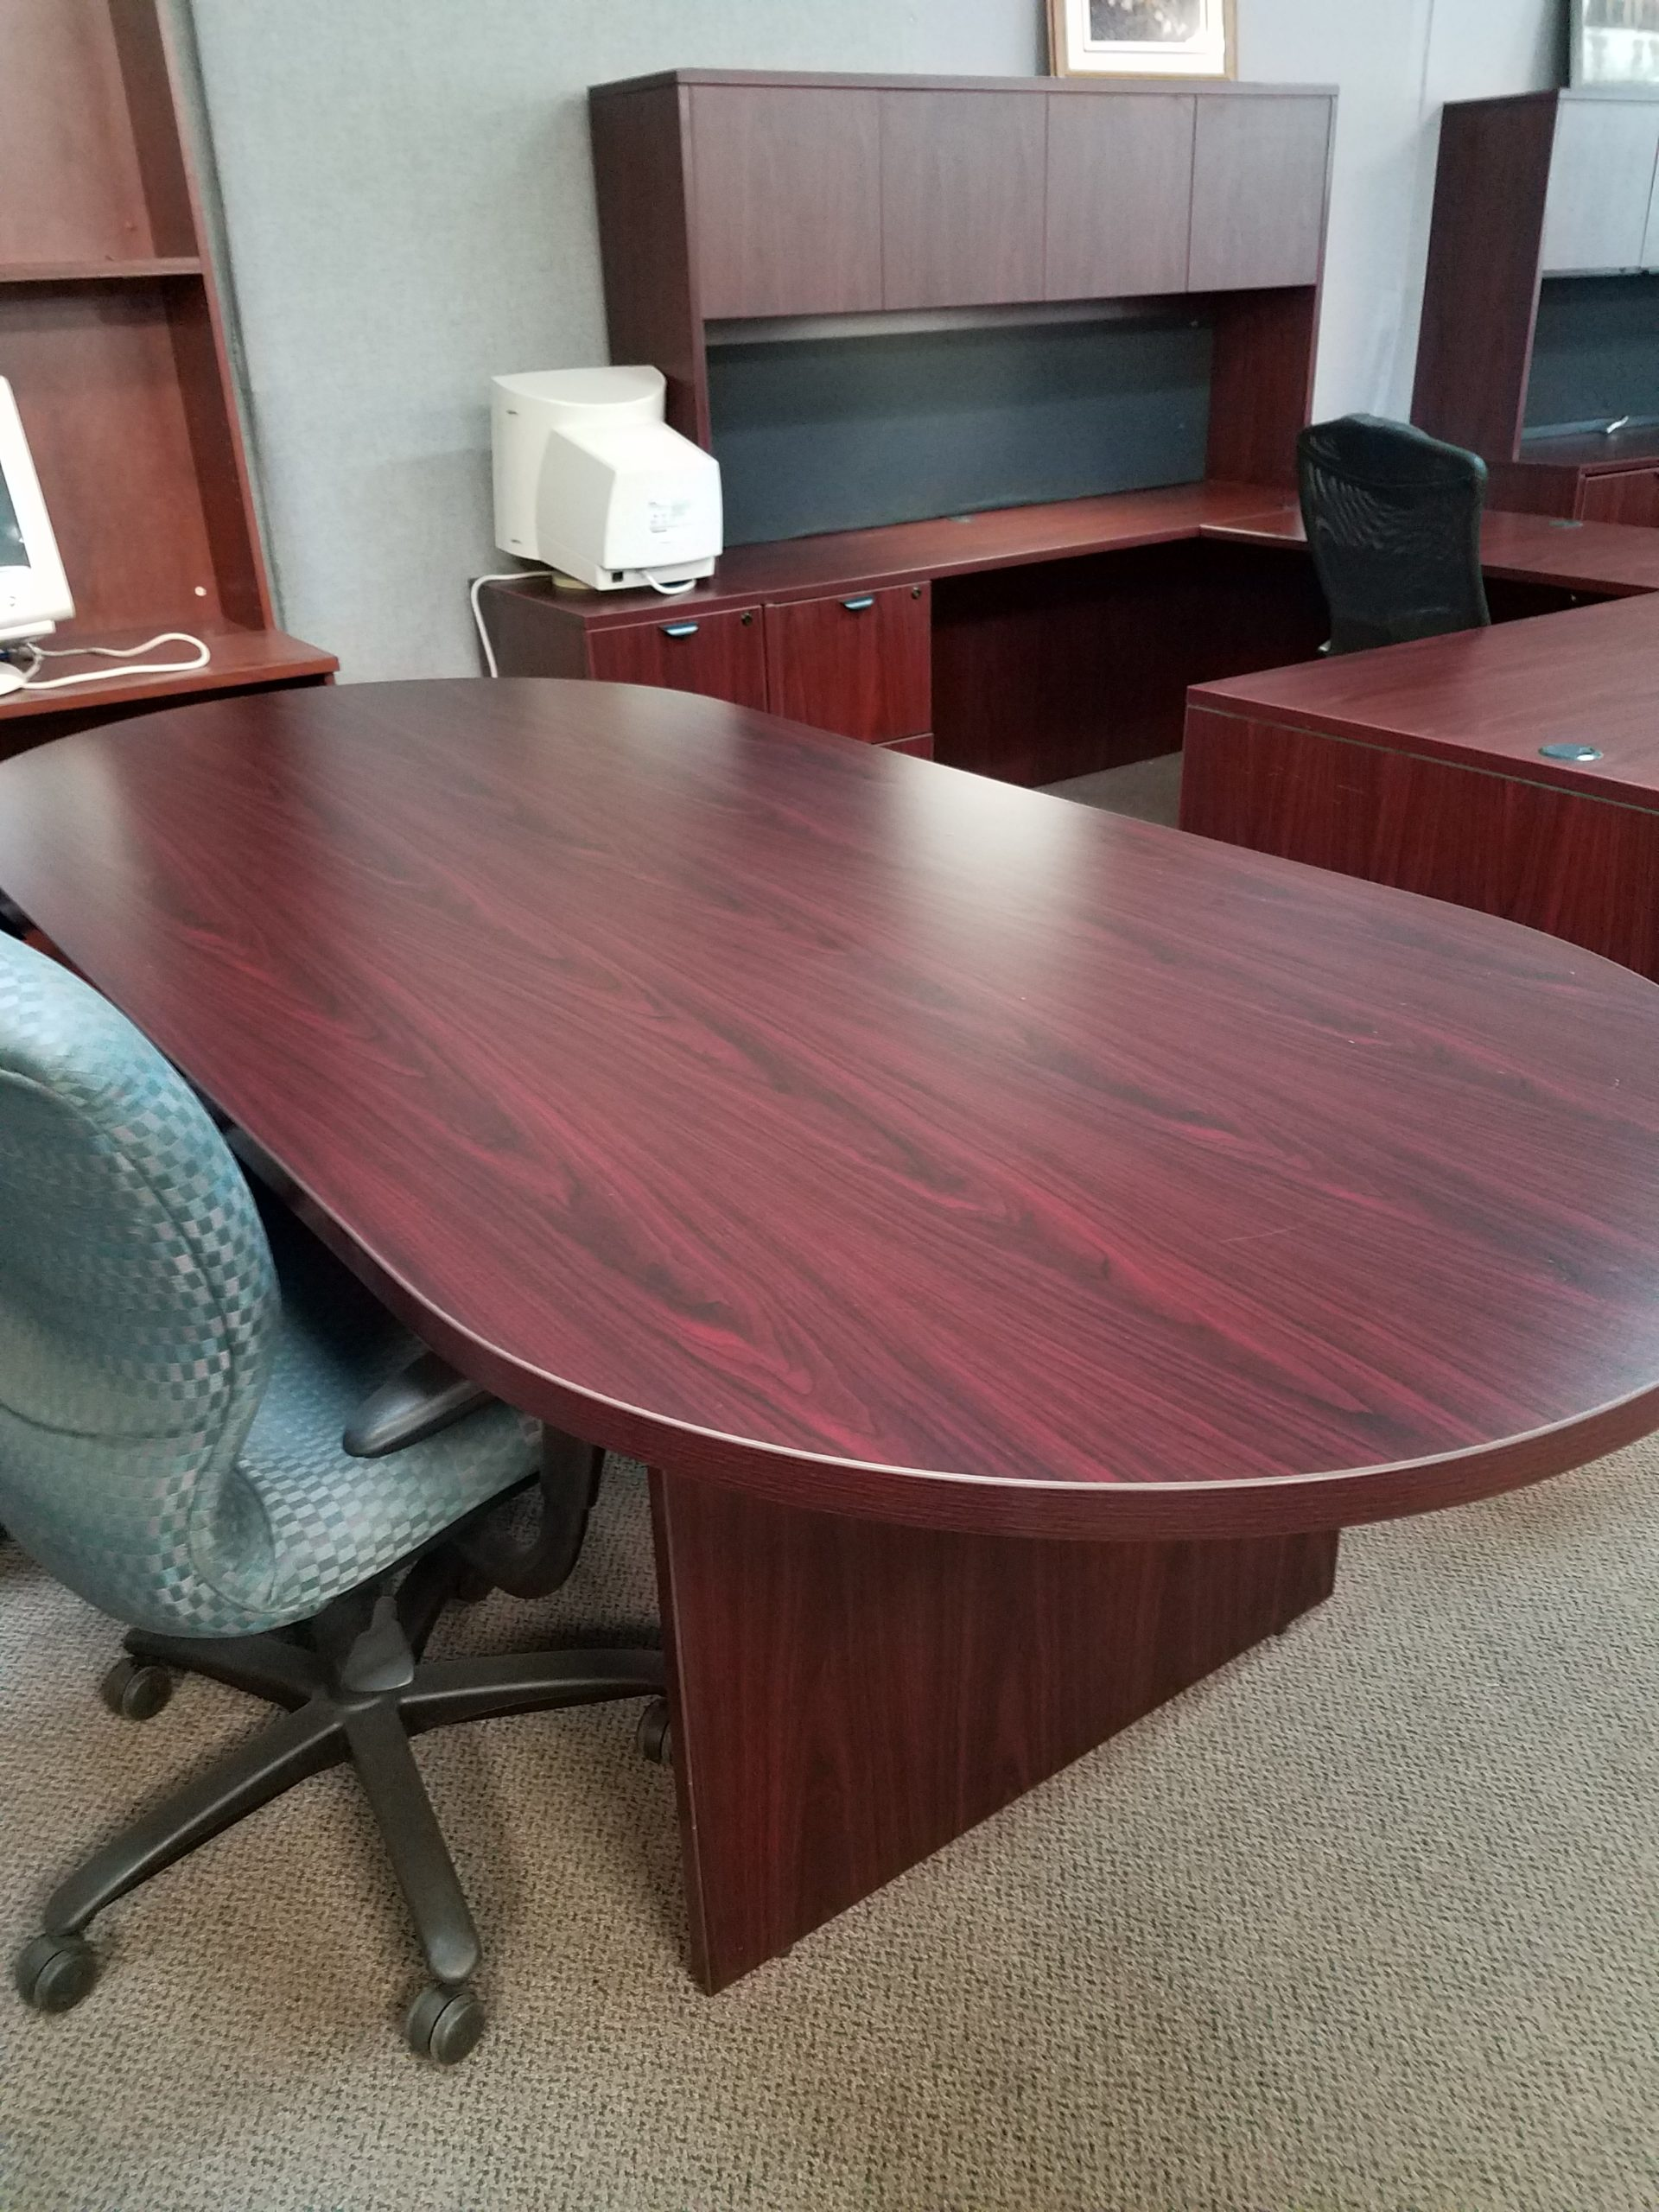conference_table: (1, 678, 1656, 1998)
